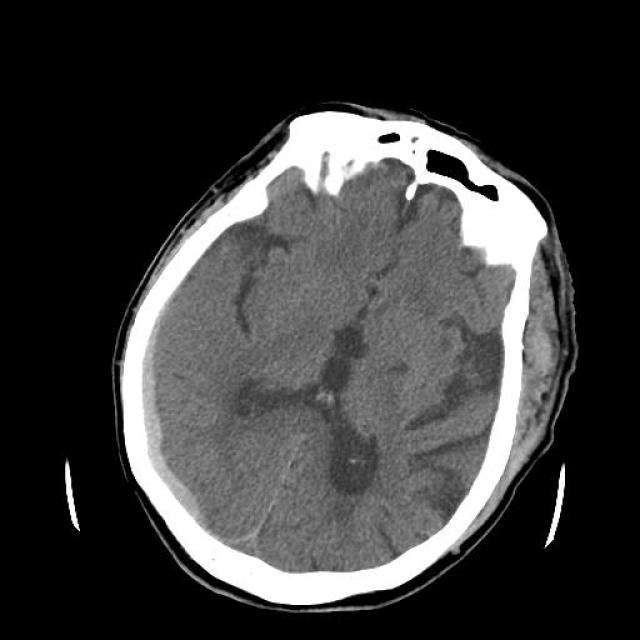Subdural: (126, 301, 218, 531)
